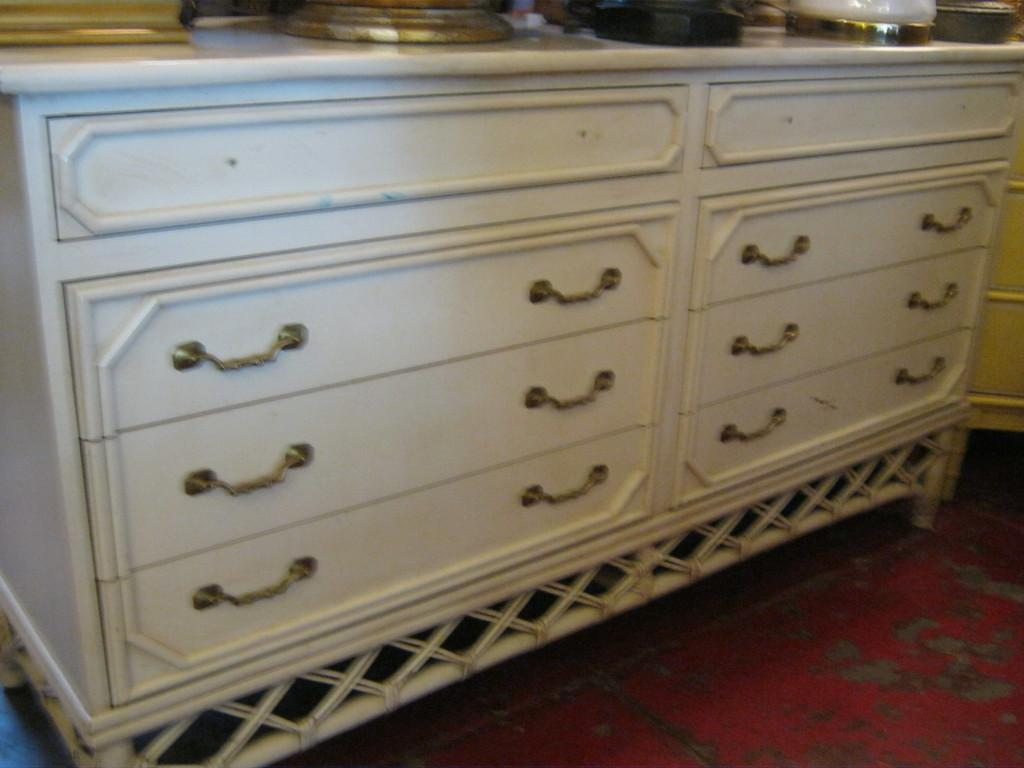cabinet_door: (81, 236, 664, 374), (108, 477, 662, 596), (100, 342, 662, 458), (707, 350, 952, 447), (716, 273, 982, 354), (711, 202, 1021, 271)
handle: (162, 300, 312, 374), (194, 558, 316, 616), (190, 449, 322, 501), (530, 264, 628, 314), (519, 457, 609, 508), (527, 378, 616, 428), (738, 231, 814, 274), (721, 319, 808, 354), (722, 408, 792, 444), (898, 282, 960, 318), (891, 353, 943, 394), (916, 208, 977, 240)
